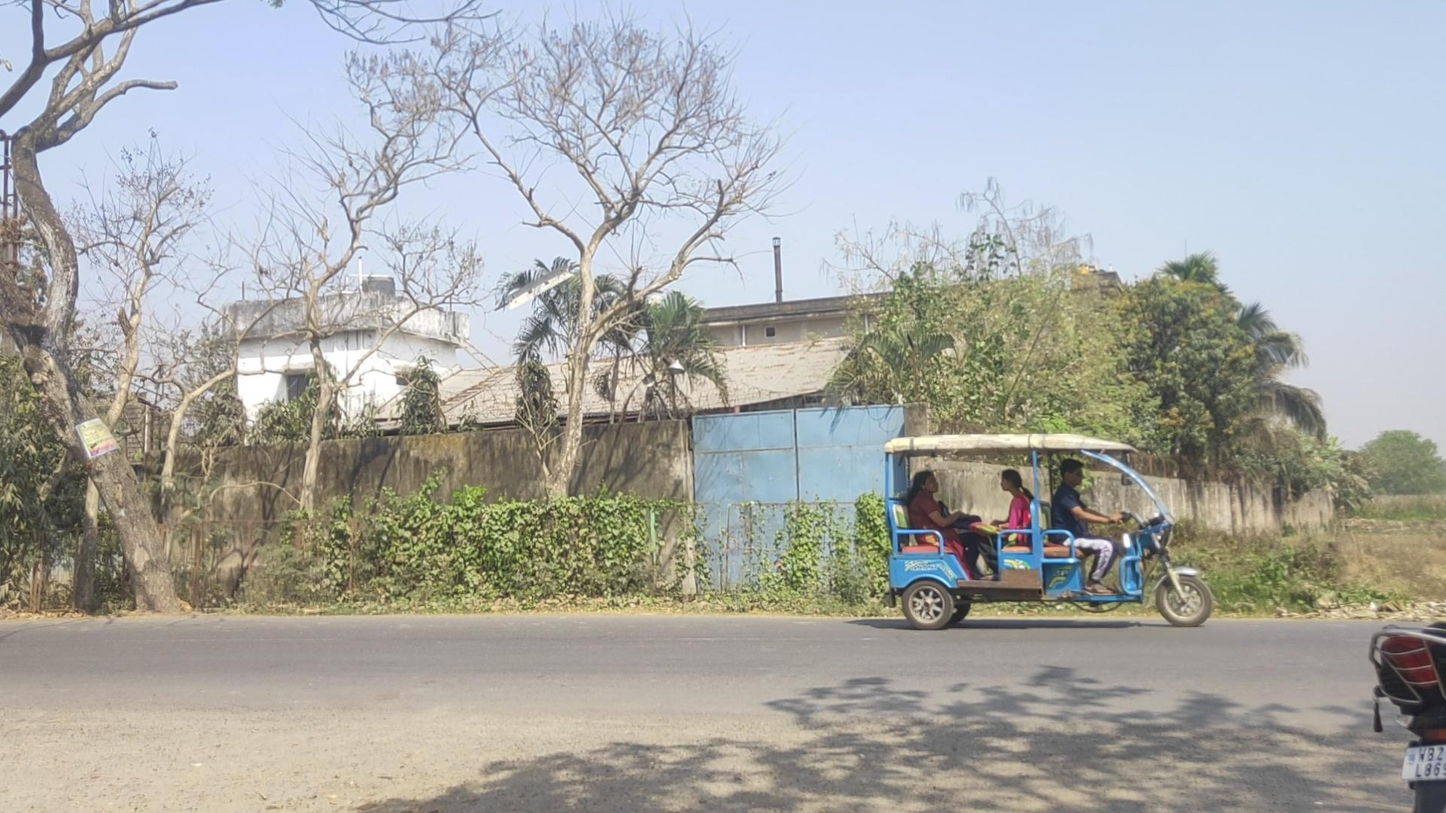Auto: (883, 431, 1213, 631)
